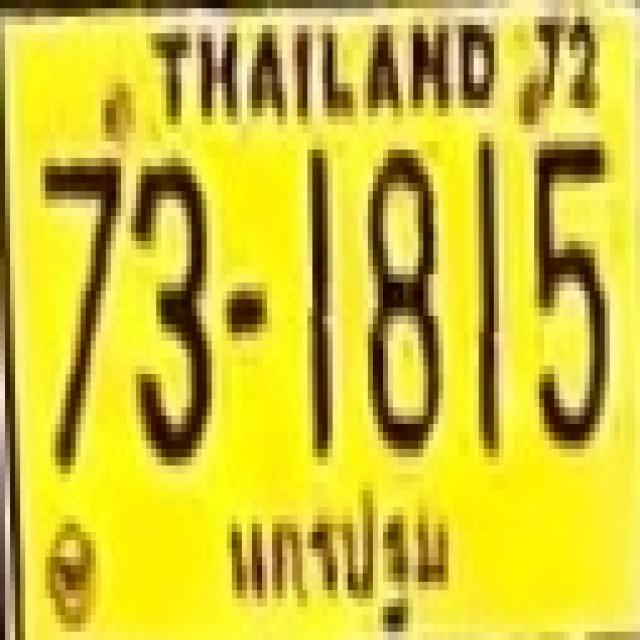1: (305, 145, 330, 453), (472, 137, 496, 453)
3: (129, 150, 209, 457)
5: (529, 133, 605, 441)
7: (38, 150, 118, 466)
8: (363, 141, 438, 449)
NPT: (220, 487, 462, 640)
